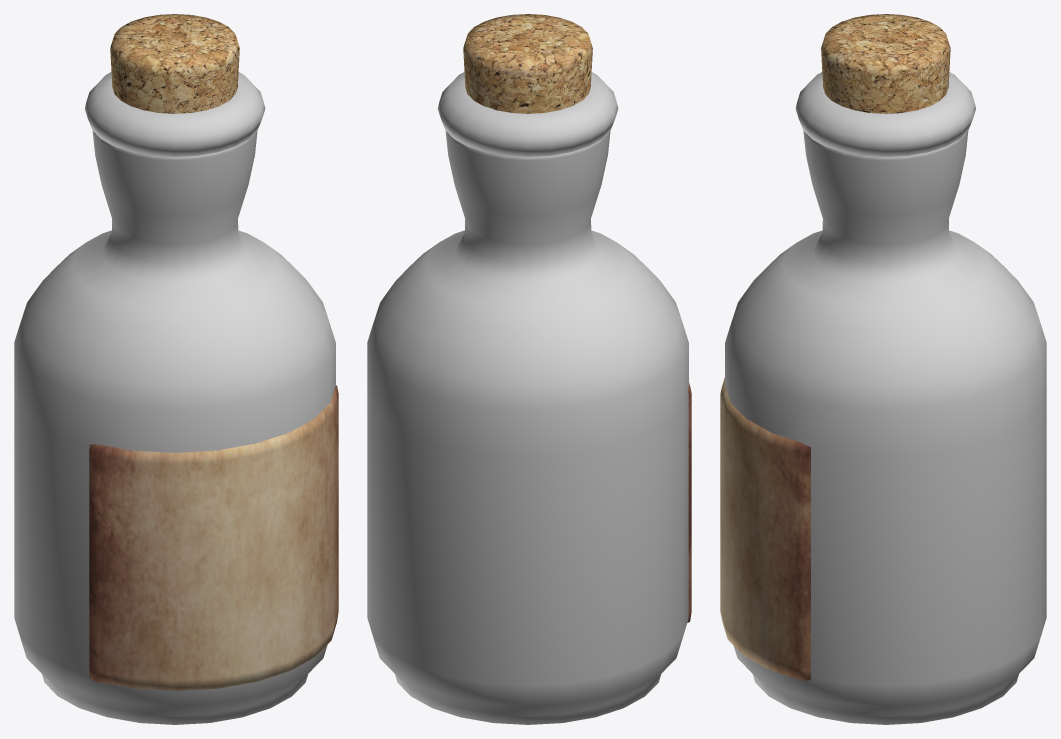
The model's file is Bottle2.fbx.
The picture shows the model from 3 angles, left to right: view 1: azimuth 30°, elevation 25°; view 2: azimuth 150°, elevation 25°; view 3: azimuth 270°, elevation 25°; orthographic projection.
Visible parts, largest first — view 1: Bottle_LOD0, Cork; view 2: Bottle_LOD0, Cork; view 3: Bottle_LOD0, Cork.
Boxes of the visible parts, x1,y1,x2,y2 form: Bottle_LOD0: [14, 72, 338, 724]; Cork: [110, 14, 239, 113]; Bottle_LOD0: [367, 72, 691, 724]; Cork: [463, 14, 592, 113]; Bottle_LOD0: [720, 72, 1046, 724]; Cork: [821, 14, 950, 113].
Size of what is drawn, in the model's own units: 24.77 by 53.64 by 25.14.
